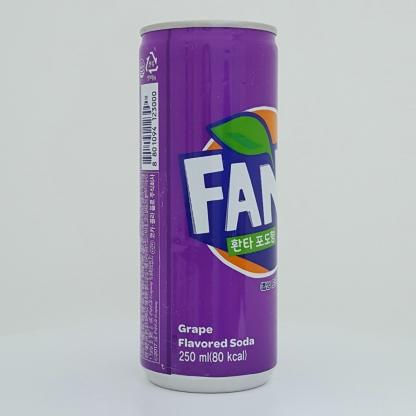------250ML: (139, 20, 277, 393)
